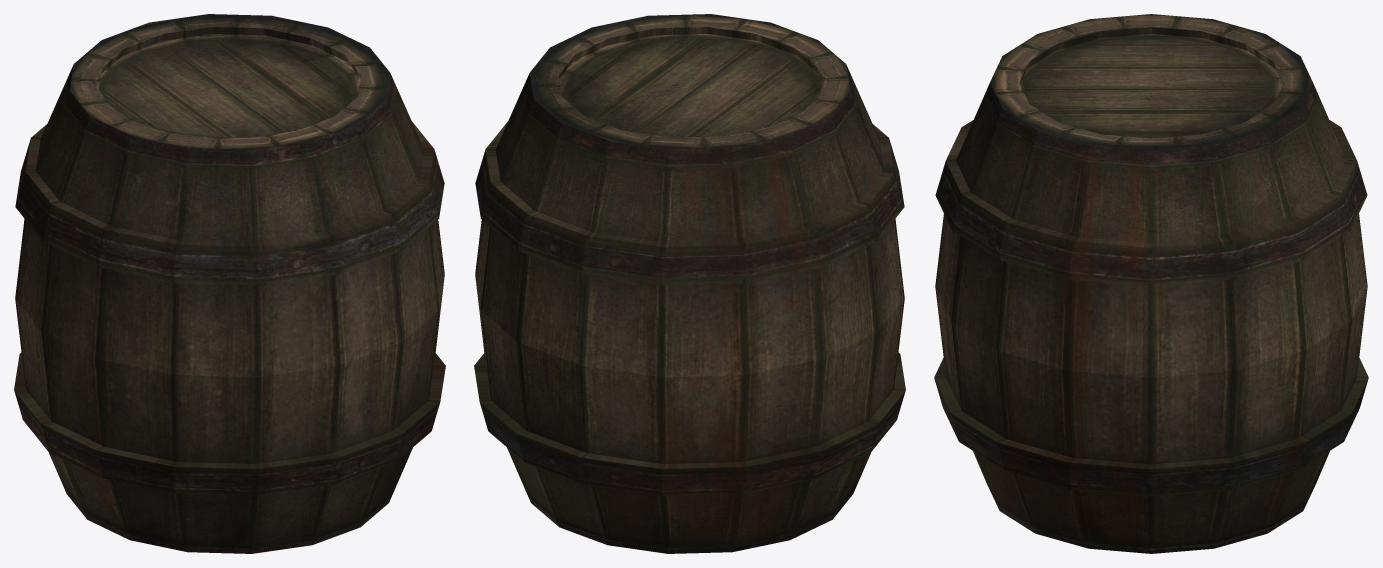
File: Barril.fbx
The picture shows the model from 3 angles, left to right: view 1: azimuth 30°, elevation 25°; view 2: azimuth 150°, elevation 25°; view 3: azimuth 270°, elevation 25°; orthographic projection.
Visible parts, largest first — view 1: Barril_madera; view 2: Barril_madera; view 3: Barril_madera.
Boxes of the visible parts, left/top/right/bottom form: Barril_madera: left=14, top=14, right=445, bottom=553; Barril_madera: left=474, top=14, right=905, bottom=553; Barril_madera: left=934, top=14, right=1368, bottom=553.
Size of the model in its own units: 325 by 331 by 325.
Materials: 1 (1 with a texture image).
